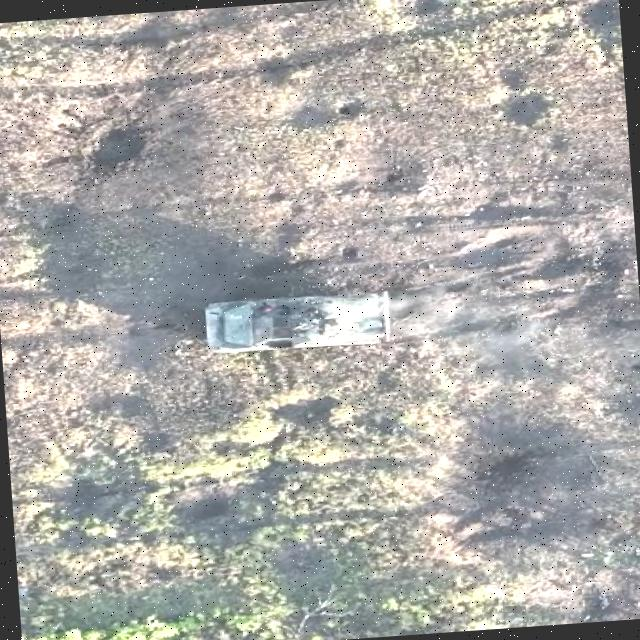AIFV: (198, 289, 395, 355)
